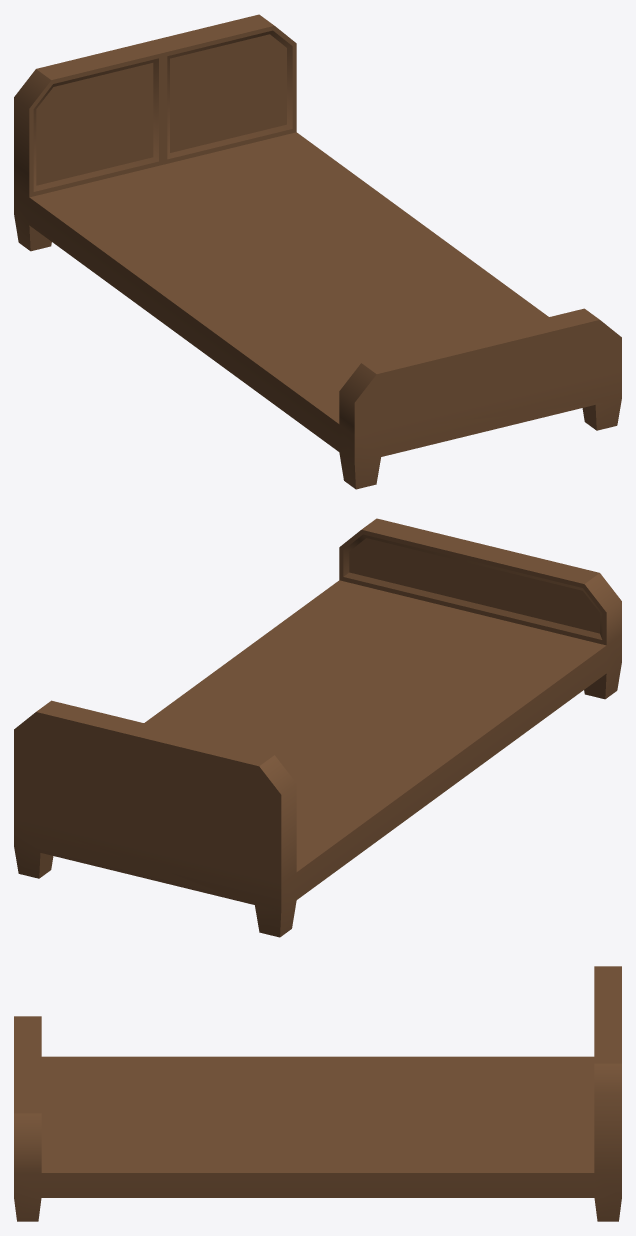
Rendered from Single_Bed_Frame.fbx.
3 renders of one model, top to bottom at view 1: azimuth 30°, elevation 25°; view 2: azimuth 150°, elevation 25°; view 3: azimuth 270°, elevation 25°, orthographic. The views are drawn at different scales.
Parts seen in each view (by area): view 1: Single_Bed_Frame; view 2: Single_Bed_Frame; view 3: Single_Bed_Frame.
Boxes of the visible parts, x1,y1,x2,y2 form: Single_Bed_Frame: [14, 14, 621, 489]; Single_Bed_Frame: [14, 518, 621, 937]; Single_Bed_Frame: [14, 966, 621, 1221].
Size of the model in its own units: 100 by 60 by 221.
Materials: 1 (1 with a texture image).
